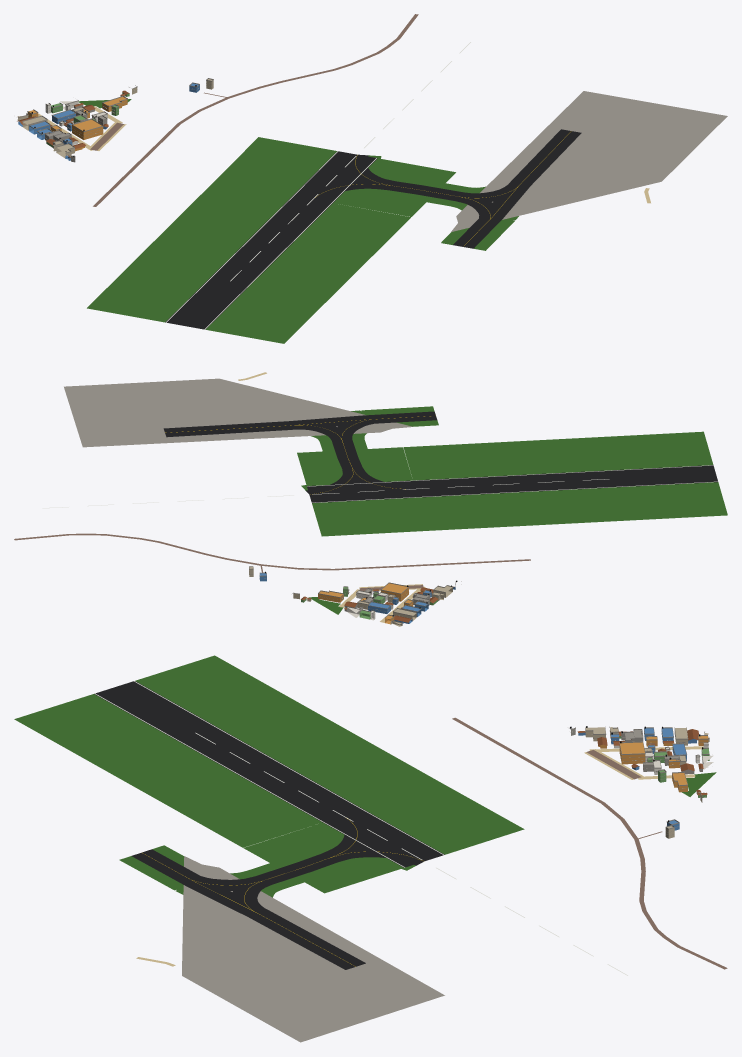
The model's file is zone_t0_1.glb.
3 views of the same model, one above another, from view 1: azimuth 30°, elevation 25°; view 2: azimuth 150°, elevation 25°; view 3: azimuth 270°, elevation 25° (orthographic). The views are drawn at different scales.
Parts seen in each view (by area): view 1: zone_herbe_aerodrome_t0_1, aeroport_tarmac_t0_1, aeroport_runway_t0_1, aeroport_taxiway_t0_1, route_service_paves_t0_1, parapet_t0_1, bld_peinture_ocre_t0_1-col, marquage_piste_t0_1, bld_peinture_bleu_t0_1-col, bld_peinture_ecaillee_t0_1-col; view 2: zone_herbe_aerodrome_t0_1, aeroport_tarmac_t0_1, aeroport_runway_t0_1, aeroport_taxiway_t0_1, route_service_paves_t0_1, marquage_piste_t0_1, parapet_t0_1, bld_peinture_ocre_t0_1-col, bld_peinture_ecaillee_t0_1-col, bld_peinture_bleu_t0_1-col; view 3: zone_herbe_aerodrome_t0_1, aeroport_tarmac_t0_1, aeroport_runway_t0_1, aeroport_taxiway_t0_1, route_service_paves_t0_1, marquage_piste_t0_1, parapet_t0_1, bld_peinture_ocre_t0_1-col, bld_peinture_ecaillee_t0_1-col, bld_peinture_bleu_t0_1-col.
Boxes of the visible parts, x1,y1,x2,y2 form: zone_herbe_aerodrome_t0_1: (87,137,518,343); aeroport_tarmac_t0_1: (451,91,727,231); aeroport_runway_t0_1: (165,151,377,329); aeroport_taxiway_t0_1: (345,129,581,248); route_service_paves_t0_1: (93,14,418,206); parapet_t0_1: (18,78,213,157); bld_peinture_ocre_t0_1-col: (27,97,127,151); marquage_piste_t0_1: (166,42,470,329); bld_peinture_bleu_t0_1-col: (18,83,199,160); bld_peinture_ecaillee_t0_1-col: (17,79,213,158); zone_herbe_aerodrome_t0_1: (297,406,727,536); aeroport_tarmac_t0_1: (64,378,412,447); aeroport_runway_t0_1: (307,465,717,503); aeroport_taxiway_t0_1: (163,411,437,493); route_service_paves_t0_1: (14,533,530,570); marquage_piste_t0_1: (42,465,717,508); parapet_t0_1: (249,566,461,623); bld_peinture_ocre_t0_1-col: (318,583,433,624); bld_peinture_ecaillee_t0_1-col: (249,567,452,626); bld_peinture_bleu_t0_1-col: (259,573,455,623); zone_herbe_aerodrome_t0_1: (14,655,524,897); aeroport_tarmac_t0_1: (182,856,444,1042); aeroport_runway_t0_1: (94,681,444,867); aeroport_taxiway_t0_1: (132,834,422,969); route_service_paves_t0_1: (452,717,727,969); marquage_piste_t0_1: (95,681,627,975); parapet_t0_1: (569,726,711,829); bld_peinture_ocre_t0_1-col: (598,736,708,792); bld_peinture_ecaillee_t0_1-col: (585,727,709,838); bld_peinture_bleu_t0_1-col: (578,728,696,830).
Size of the model in its own units: 802 by 11 by 625.
